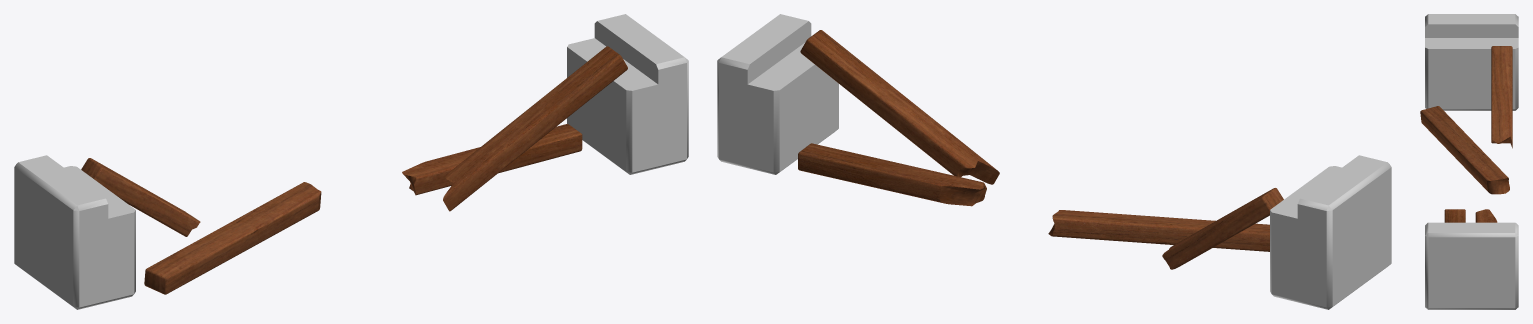
File: Bench01_4.FBX
The picture shows the model from 3 angles, left to right: view 1: azimuth 30°, elevation 25°; view 2: azimuth 150°, elevation 25°; view 3: azimuth 270°, elevation 25°; orthographic projection. The views are drawn at different scales.
Visible parts, largest first — view 1: Concrete, Wood; view 2: Concrete, Wood; view 3: Concrete, Wood.
Part boxes in pixels (x1,y1,x2,y2): Concrete: (14,14,688,309); Wood: (81,46,627,294); Concrete: (717,14,1391,309); Wood: (798,30,1283,269); Concrete: (1425,14,1518,309); Wood: (1420,46,1512,222).
Size of the model in its own units: 97.05 by 17.16 by 18.21.
